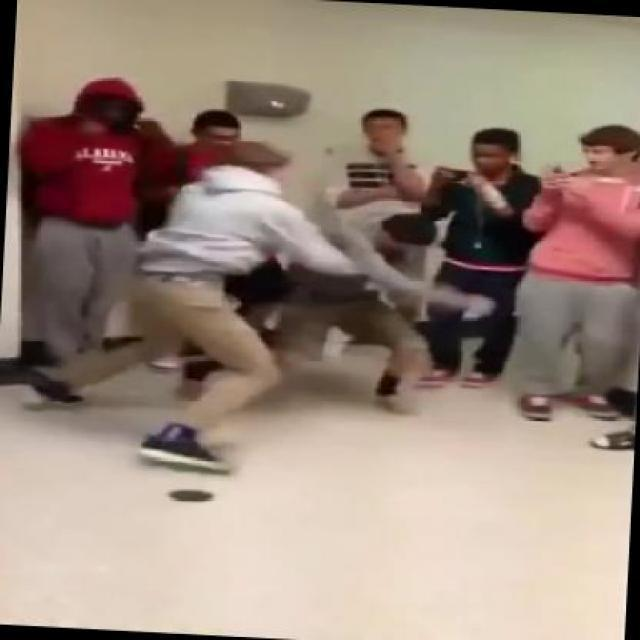fight: (108, 132, 464, 418)
